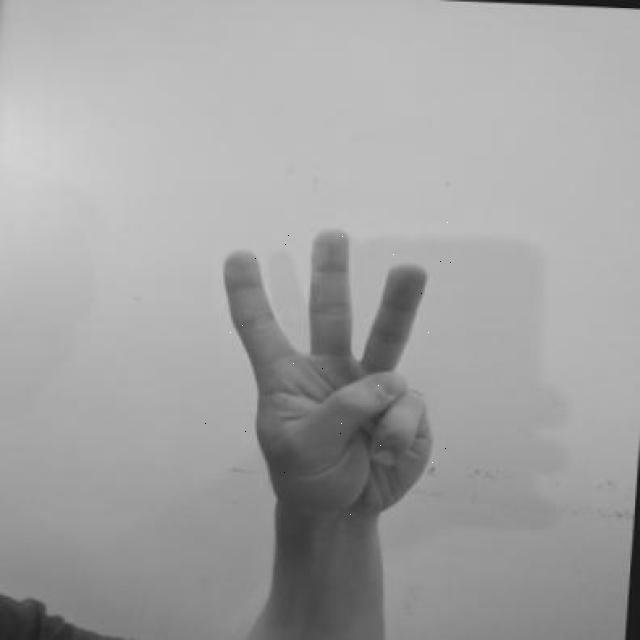W: (200, 215, 453, 522)
